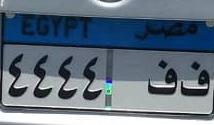4: (82, 54, 101, 104), (57, 54, 78, 98), (7, 51, 26, 97), (34, 53, 51, 99)
faa: (178, 61, 212, 101), (146, 58, 176, 98)
